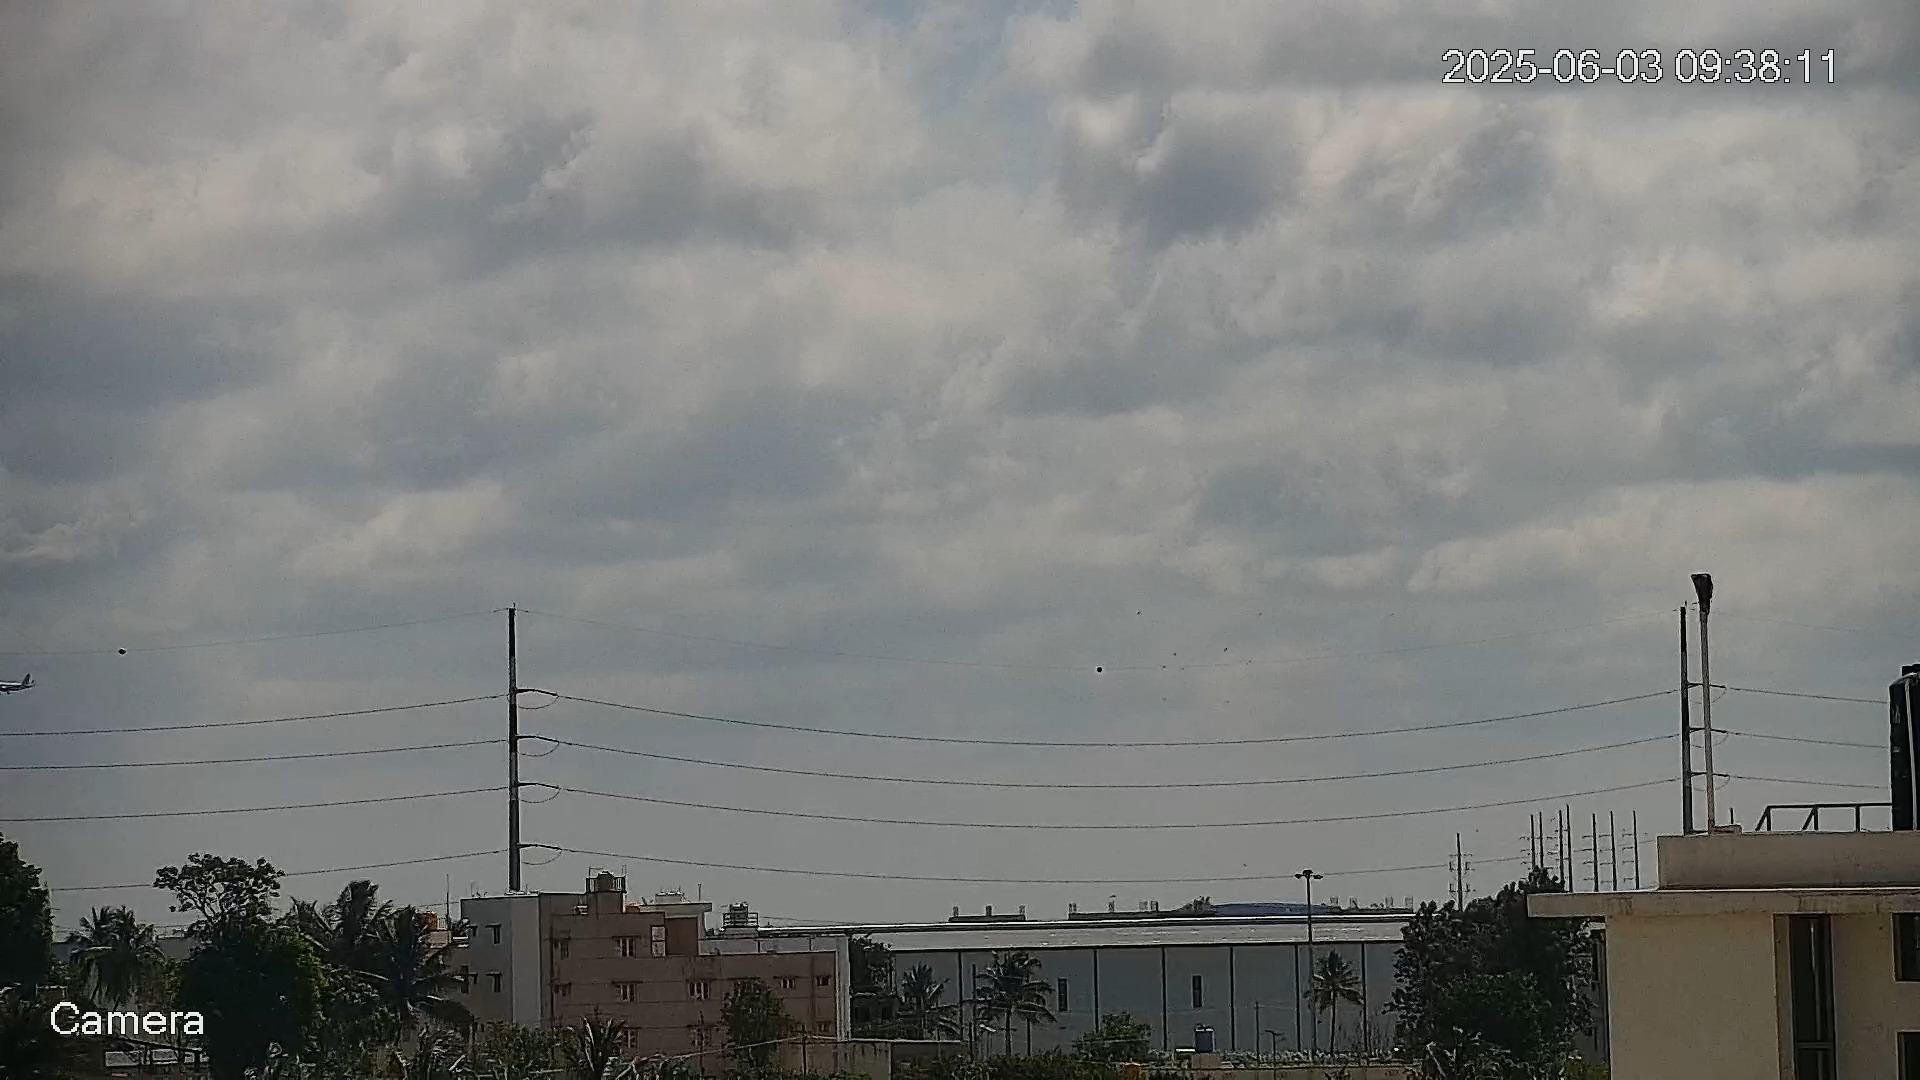Aircraft: (0, 673, 36, 694)
